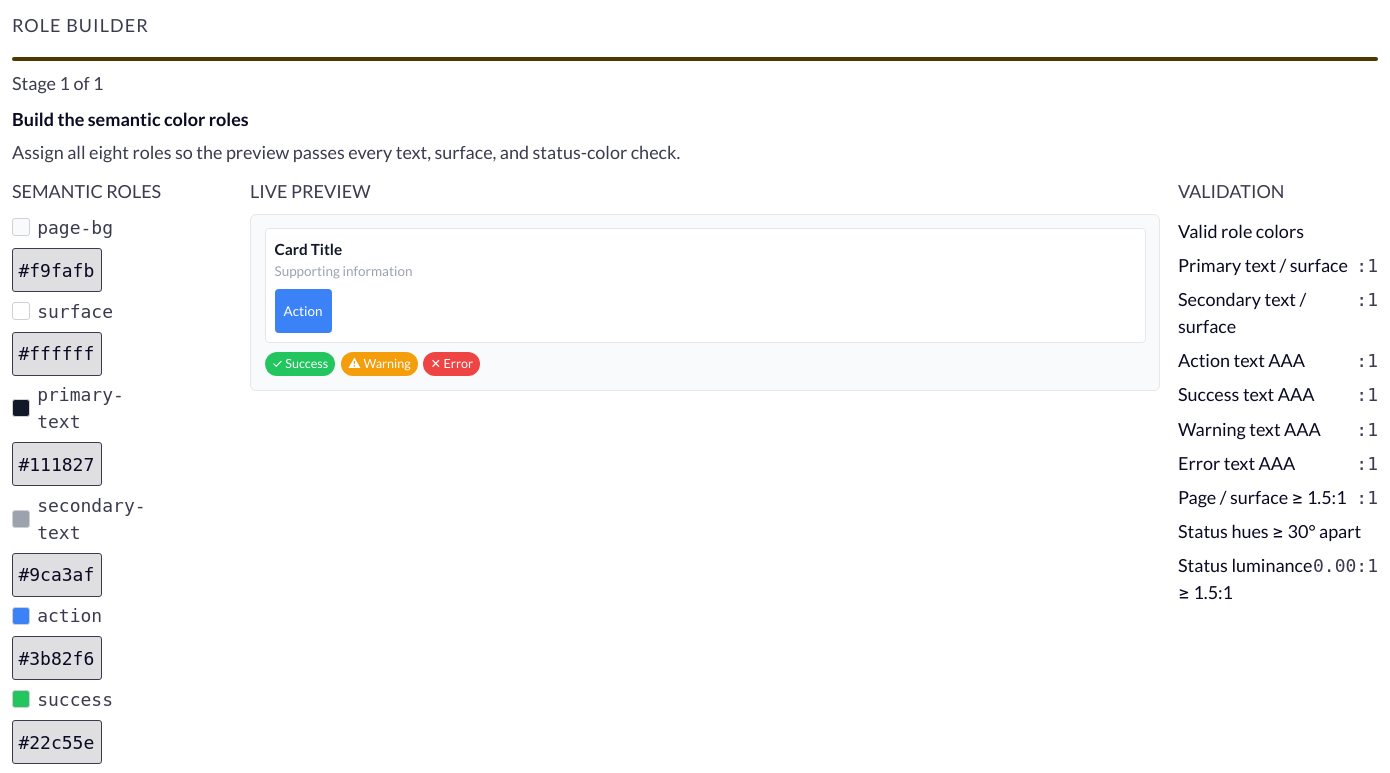
Test: RoleBuilderTool › describes invalid hex values with a visible error
Replace the text in the field named "primary-text hex color" with "nope" at (57, 464), box [12, 442, 102, 486]
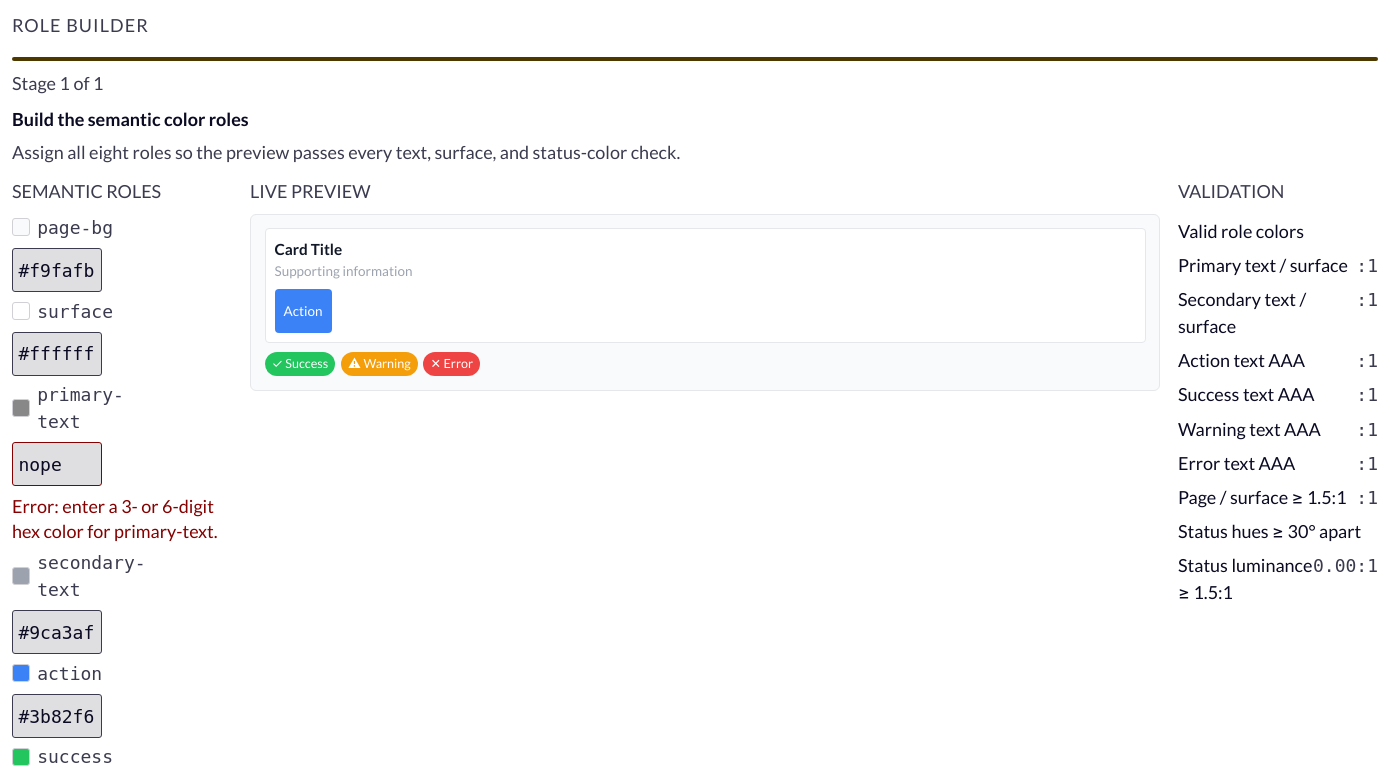
Check: the text "Error: enter a 3- or 6-digit hex color for primary-text." is shown, box [12, 494, 232, 544]
Replace the text in the field named "primary-text hex color" with "#101827" at (57, 464), box [12, 442, 102, 486]
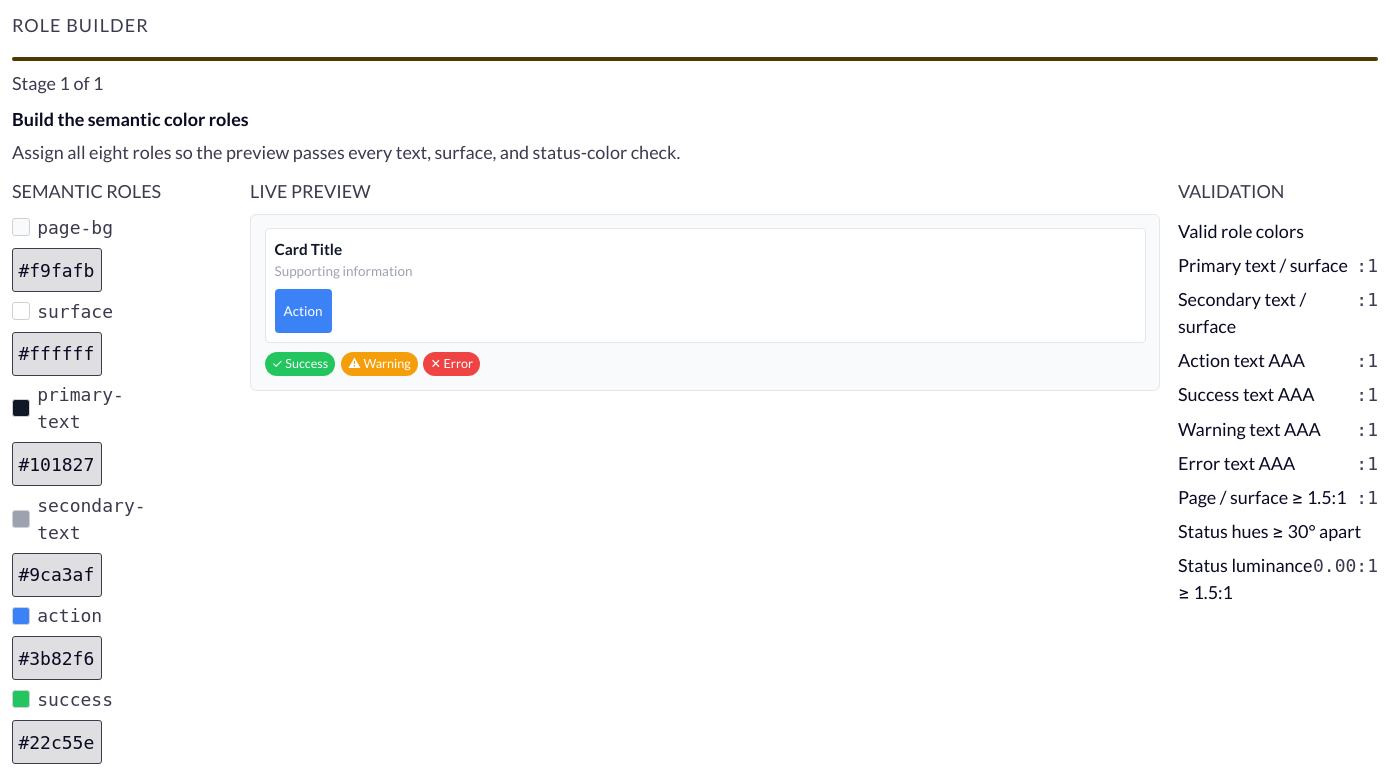
Check: the text "hex color for primary-text" is gone
